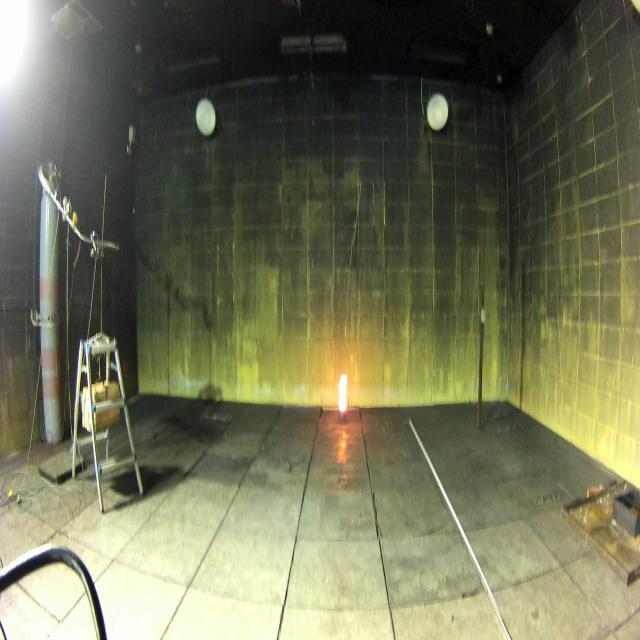Fire: (338, 373, 348, 412)
